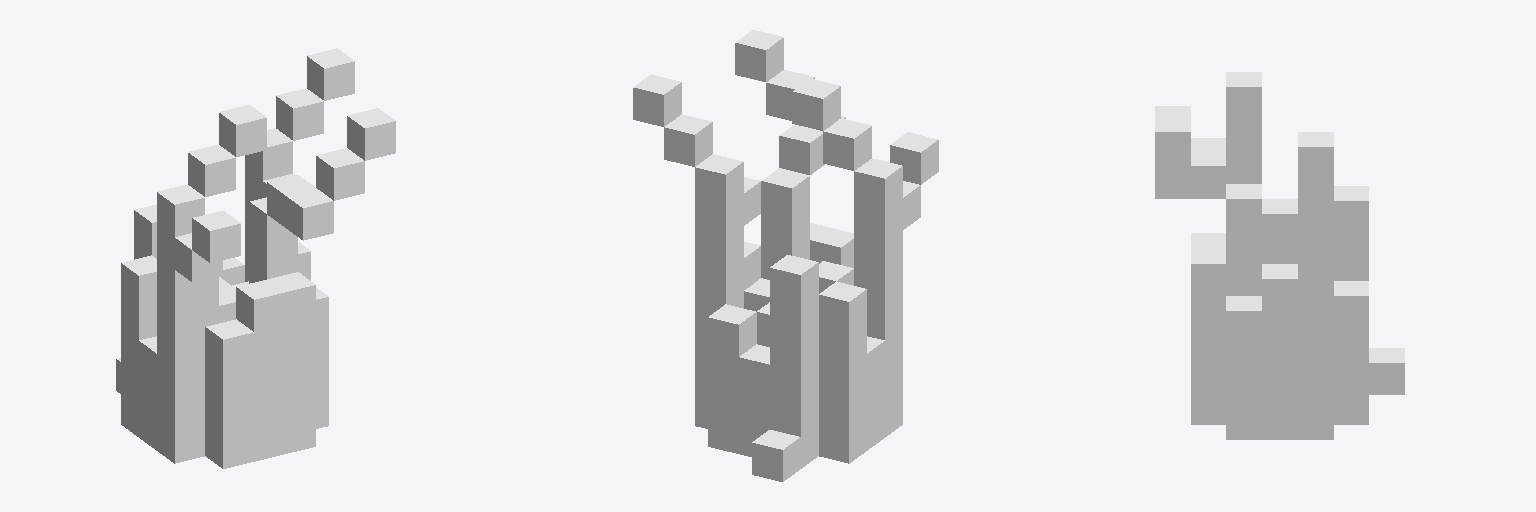
Rendered from obj_medicine.obj.
3 renders of one model, left to right at view 1: azimuth 30°, elevation 25°; view 2: azimuth 150°, elevation 25°; view 3: azimuth 270°, elevation 25°, orthographic.
Visible parts, largest first — view 1: obj_medicine; view 2: obj_medicine; view 3: obj_medicine.
Part boxes in pixels (left/top/right/bottom): obj_medicine: left=116, top=48, right=395, bottom=468; obj_medicine: left=633, top=30, right=938, bottom=481; obj_medicine: left=1155, top=72, right=1404, bottom=439.
Size of the model in its own units: 7 by 10 by 7.